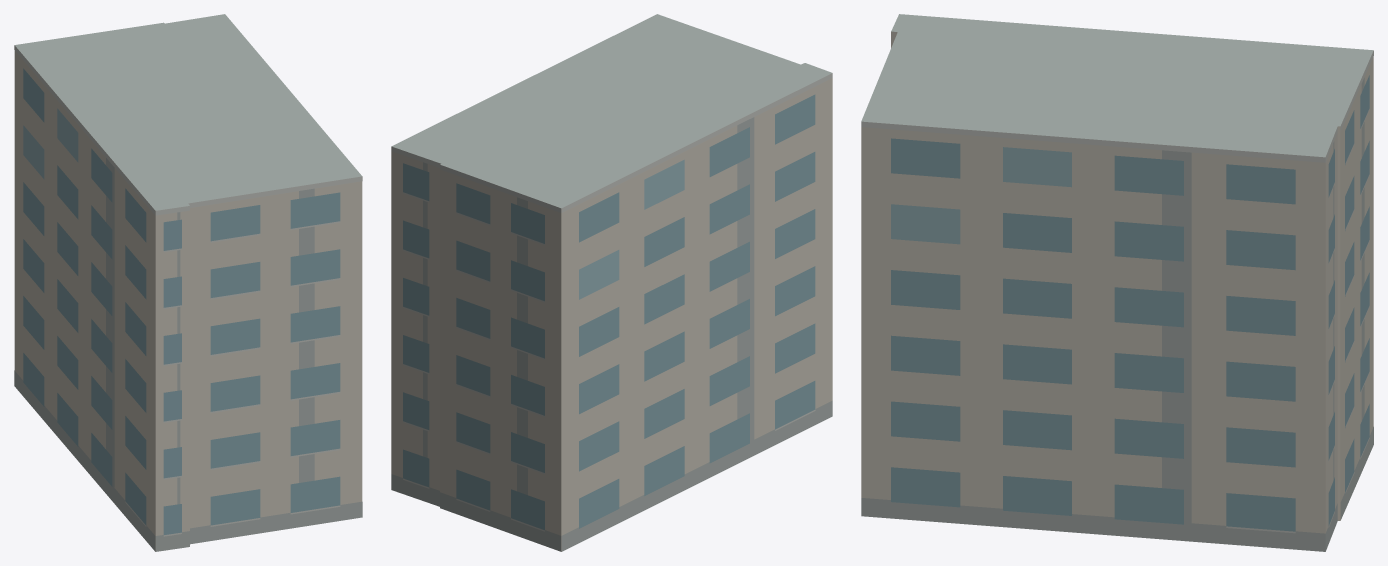
The model's file is survey-upis-32931761.glb.
The picture shows the model from 3 angles, left to right: view 1: azimuth 30°, elevation 25°; view 2: azimuth 150°, elevation 25°; view 3: azimuth 270°, elevation 25°; orthographic projection. The views are drawn at different scales.
Visible parts, largest first — view 1: survey-upis-32931761.tmp; view 2: survey-upis-32931761.tmp; view 3: survey-upis-32931761.tmp.
Part boxes in pixels (x1,y1,x2,y2): survey-upis-32931761.tmp: (14,14,362,551); survey-upis-32931761.tmp: (391,14,832,551); survey-upis-32931761.tmp: (861,14,1373,551).
Size of the model in its own units: 13.49 by 17.3 by 20.38.
